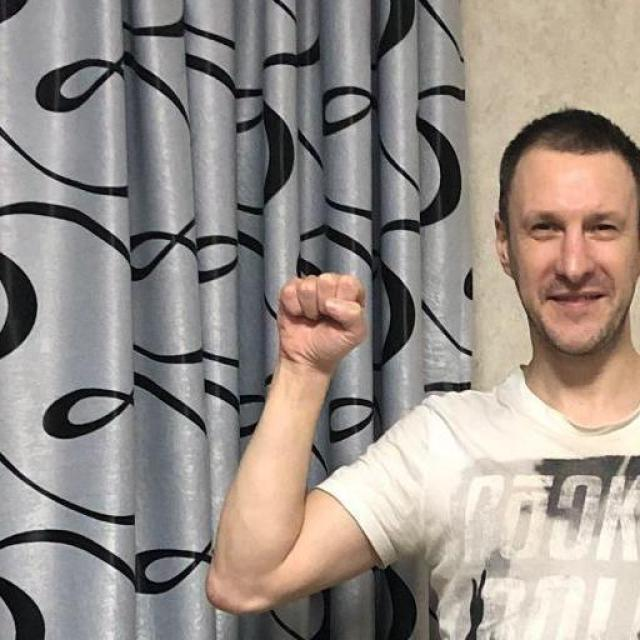hand: (275, 270, 366, 372)
